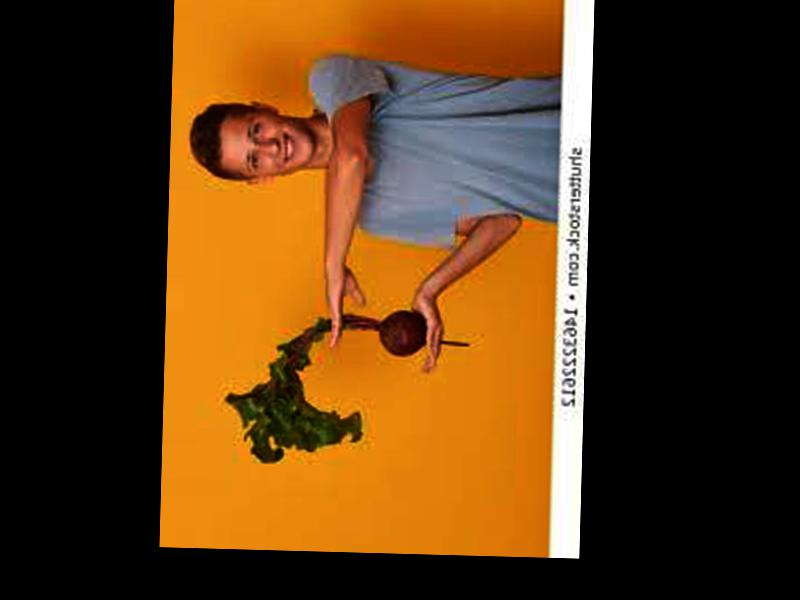Beet: (224, 306, 469, 469)
